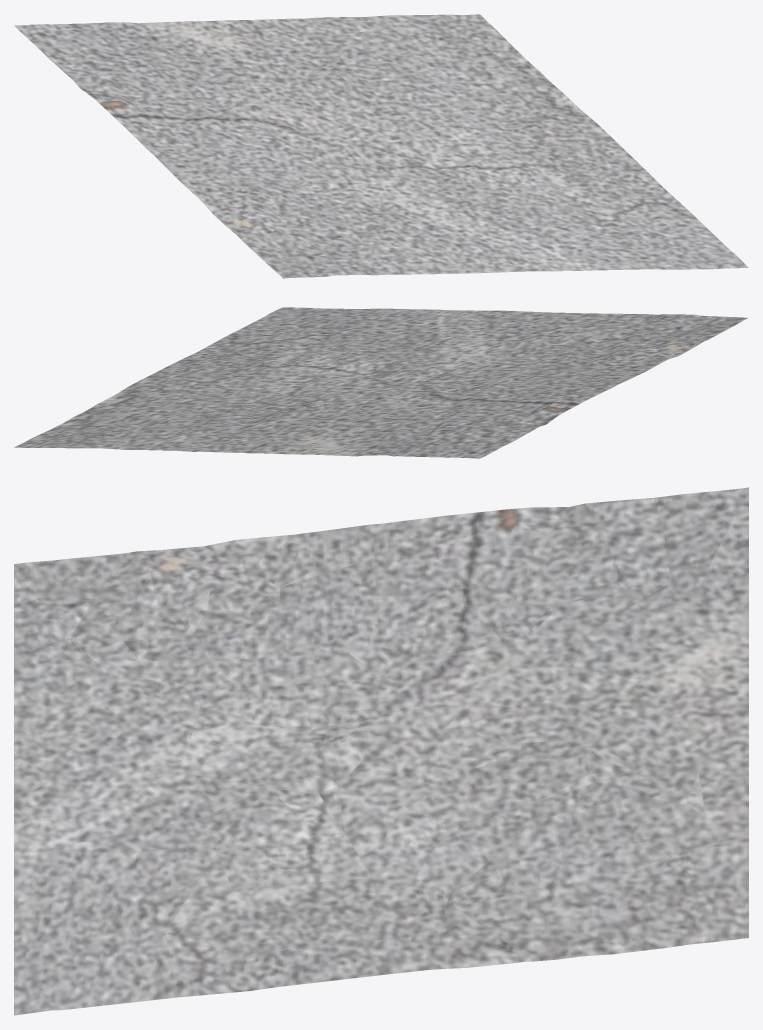
3 views of the same model, one above another, from view 1: azimuth 30°, elevation 25°; view 2: azimuth 150°, elevation 25°; view 3: azimuth 270°, elevation 25° (orthographic). The views are drawn at different scales.
Size of the model in its own units: 1.67 by 0.5467 by 1.67.
Materials: 3 (3 with a texture image).
